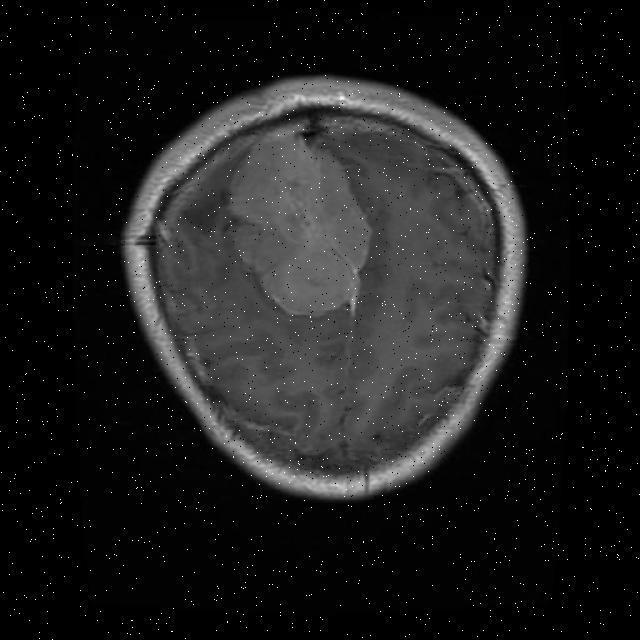Meningioma: (228, 134, 369, 315)
